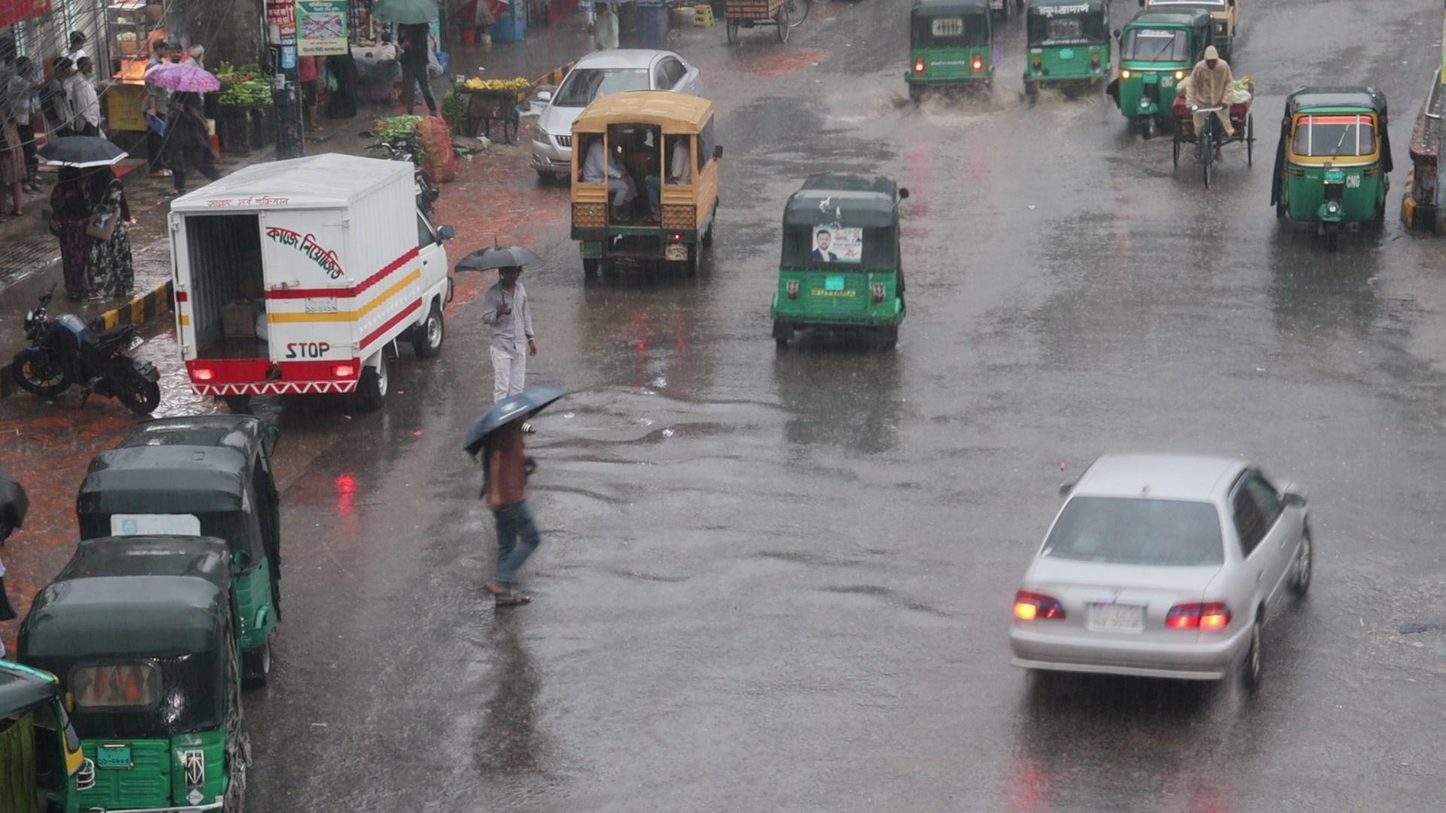Car: (1011, 445, 1323, 708), (524, 45, 712, 184)
Truck: (560, 89, 734, 284)
